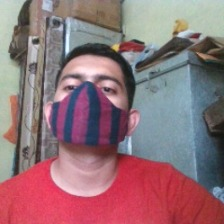Masked: (48, 95, 132, 148)
